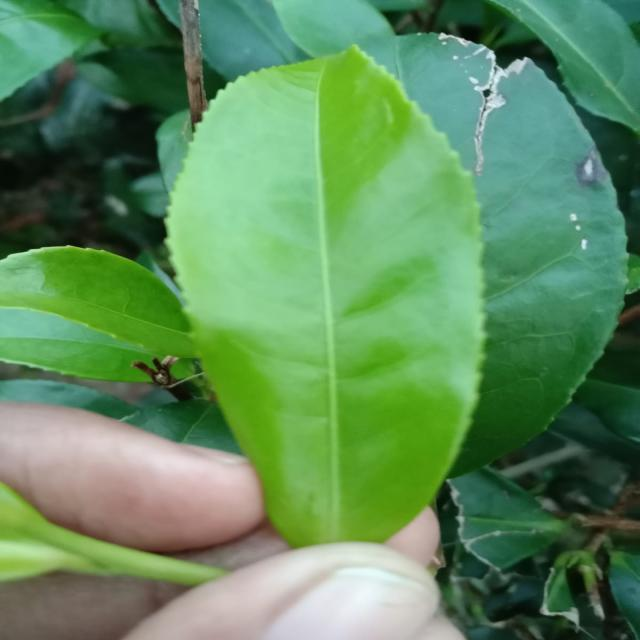Category C(4-7 days): (158, 32, 513, 554)
